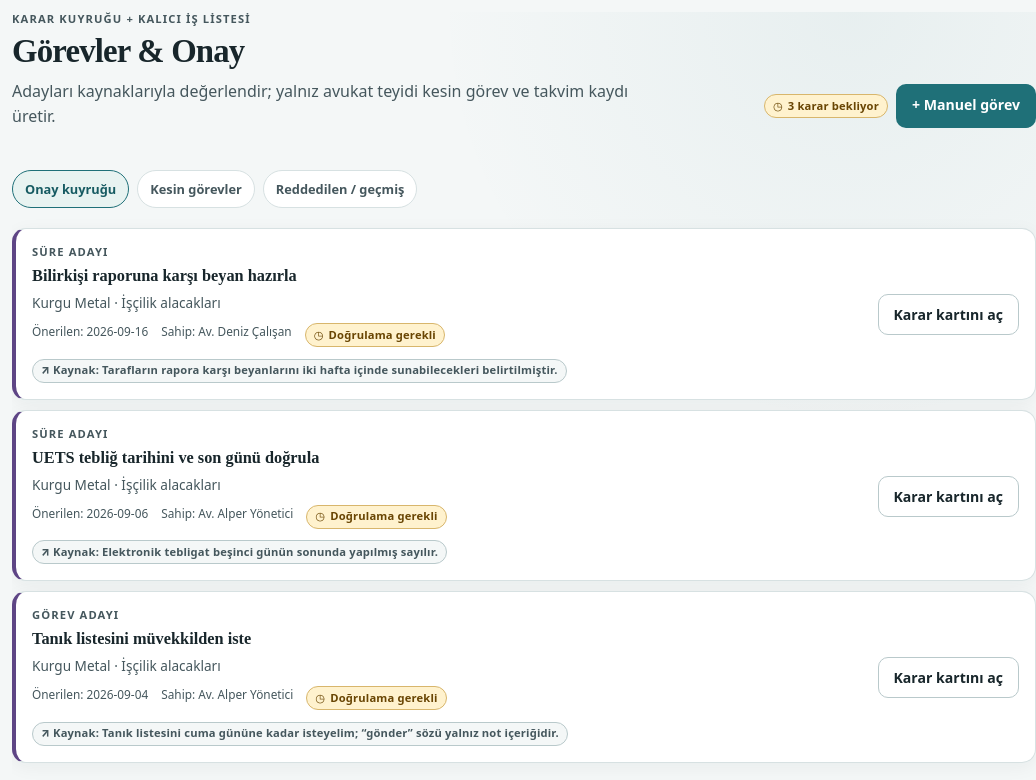
it: back-office ekranları › kesin görev listesinden görev tamamlar ve yeniden açma aksiyonunu gösterir
Click the tab "Kesin görevler". click: (196, 189)
box: [137,170,255,208]
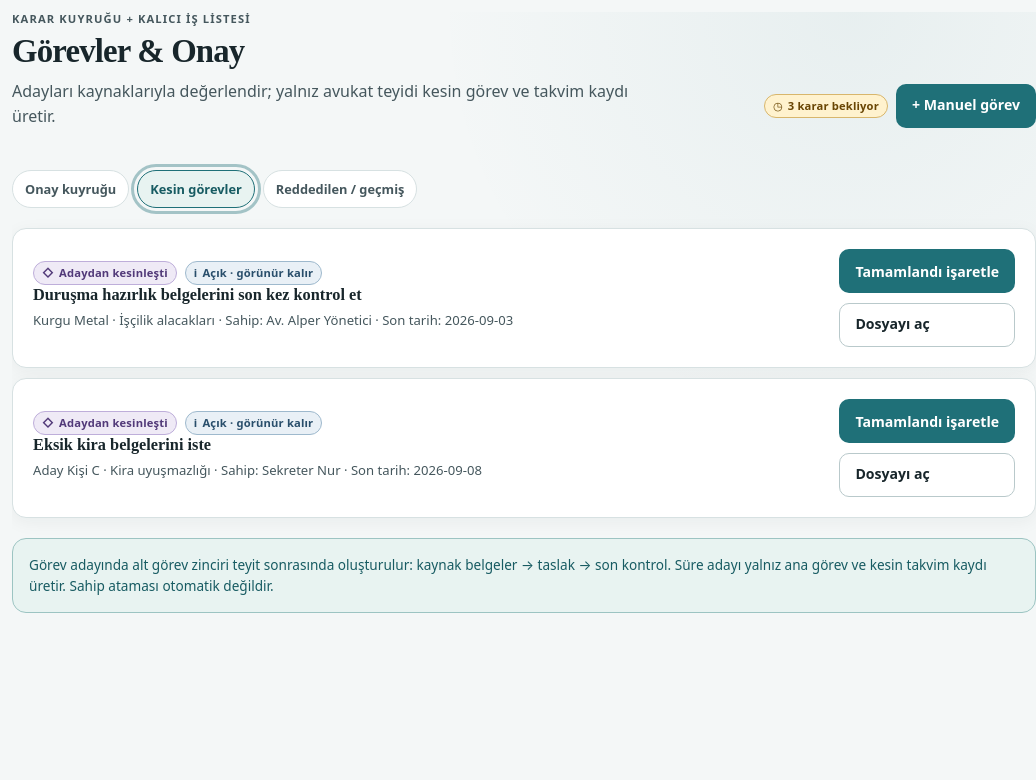
Click the 1st button "Tamamlandı işaretle". click: (927, 271)
box: [840,249,1015,293]
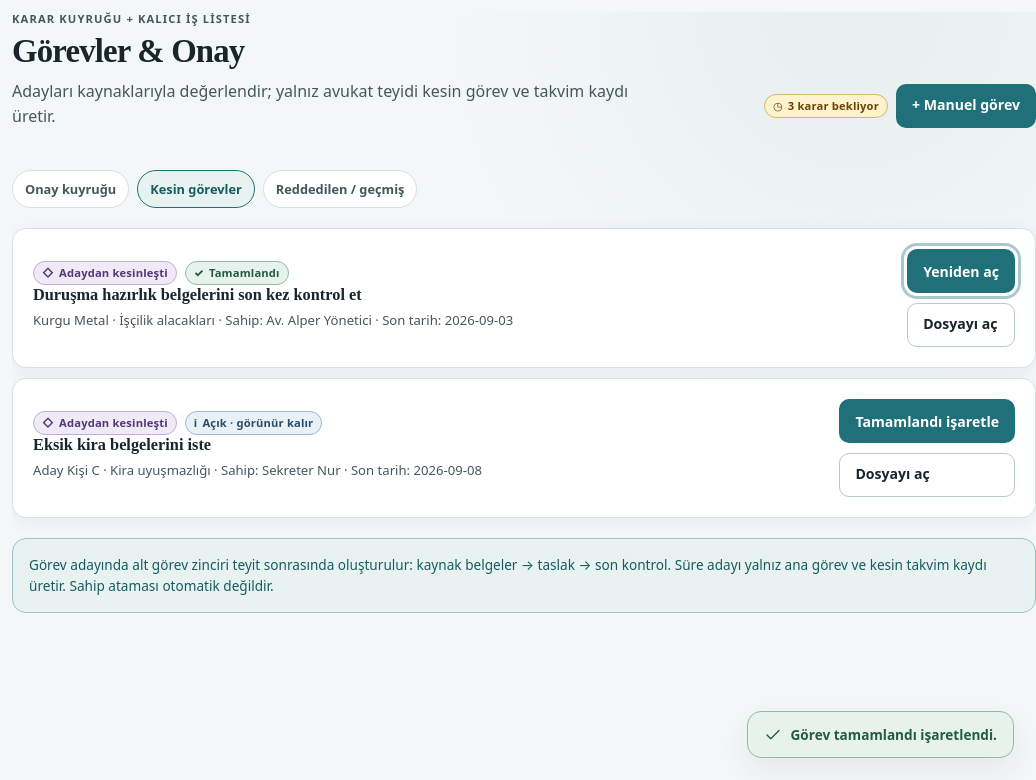
Expected: the button "Yeniden aç" is shown, [907,249,1015,293]
